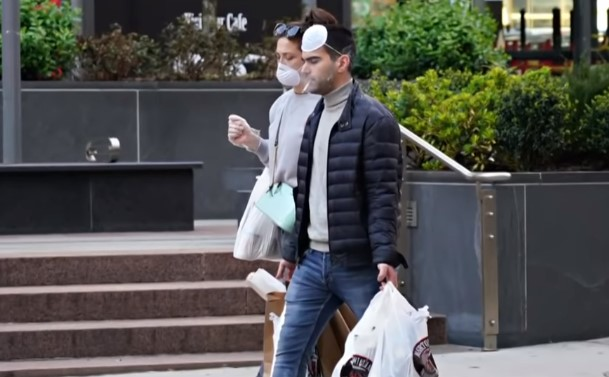face_with_mask: (298, 25, 358, 92), (270, 19, 319, 90)
